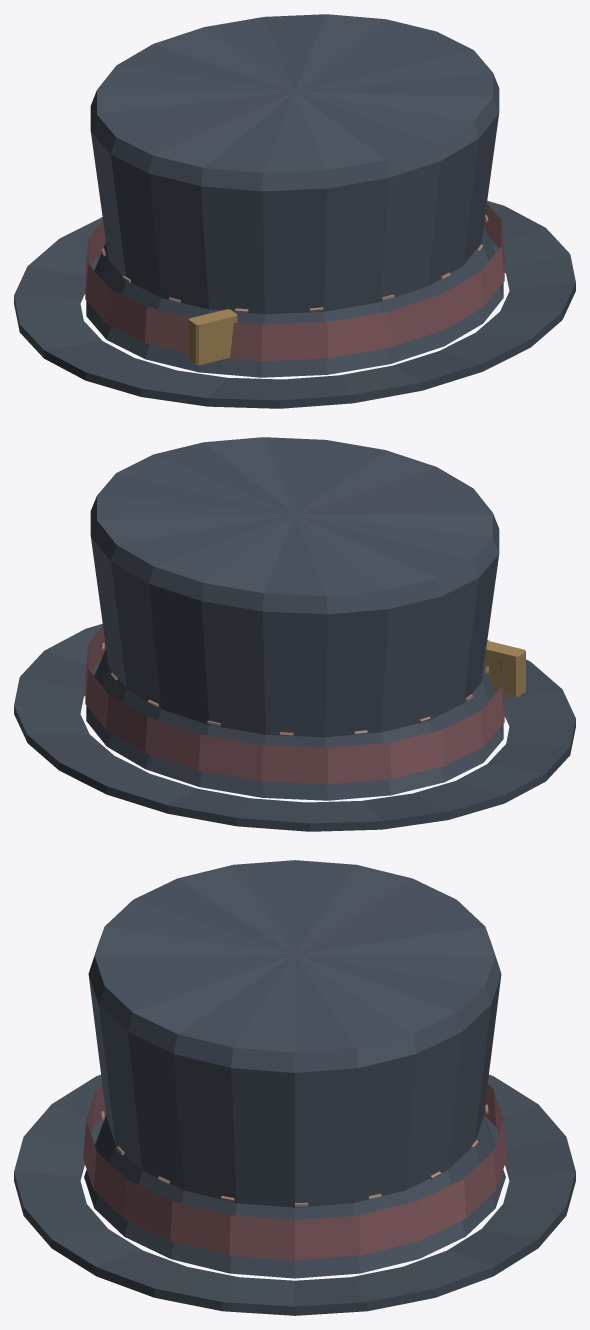
File: hat_tophat.glb
3 views of the same model, one above another, from view 1: azimuth 30°, elevation 25°; view 2: azimuth 150°, elevation 25°; view 3: azimuth 270°, elevation 25° (orthographic). The views are drawn at different scales.
Parts seen in each view (by area): view 1: hat_tophat; view 2: hat_tophat; view 3: hat_tophat.
Part boxes in pixels (left/top/right/bottom): hat_tophat: left=14, top=14, right=575, bottom=408; hat_tophat: left=14, top=437, right=575, bottom=831; hat_tophat: left=14, top=860, right=575, bottom=1315.
Bounding box in the file's own units: 0.626 × 0.249 × 0.5509.
